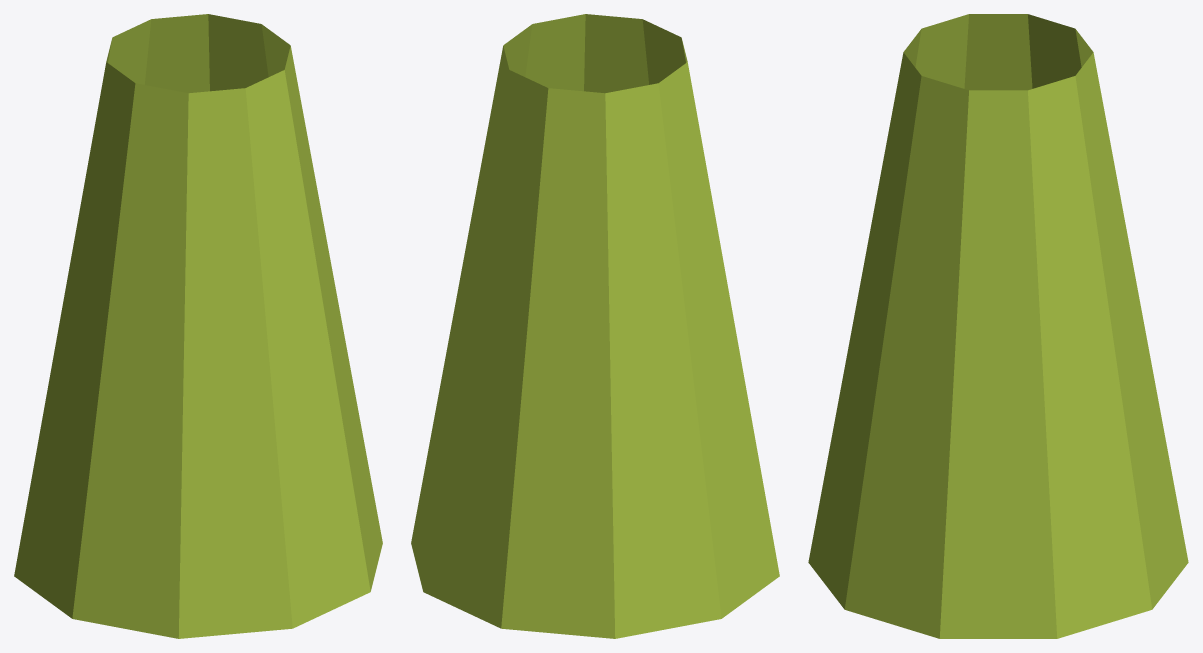
Rendered from ufo-beam.fbx.
3 views of the same model, side by side, from view 1: azimuth 30°, elevation 25°; view 2: azimuth 150°, elevation 25°; view 3: azimuth 270°, elevation 25° (orthographic).
Visible parts, largest first — view 1: ufo-beam; view 2: ufo-beam; view 3: ufo-beam.
Part boxes in pixels (<box>): ufo-beam: <box>14,14,382,638</box>; ufo-beam: <box>411,14,779,638</box>; ufo-beam: <box>808,14,1188,638</box>.
Size of the model in its own units: 6.42 by 10 by 6.75.
